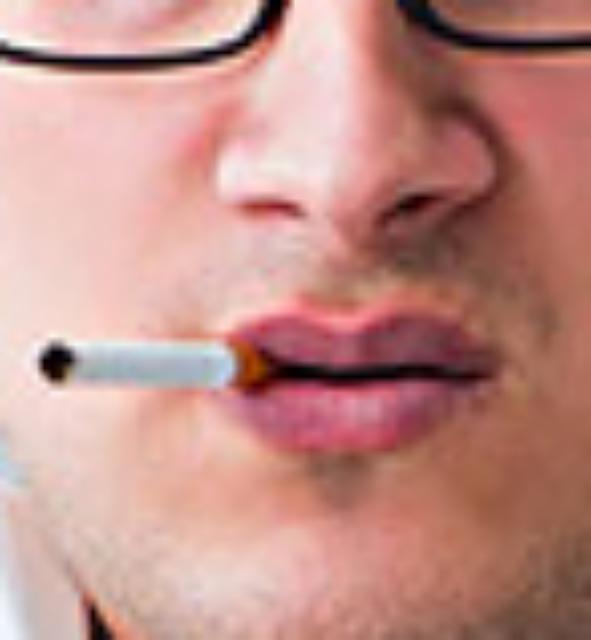Smoking: (25, 324, 259, 388)
